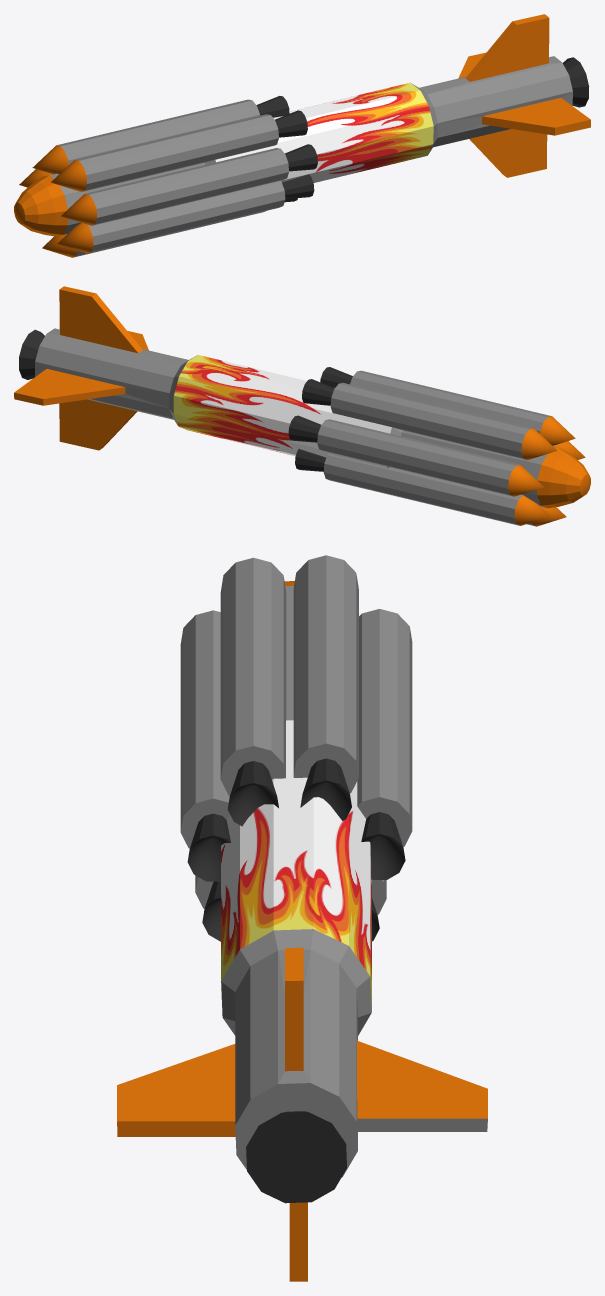
The model's file is ClusterMissile.fbx.
3 renders of one model, top to bottom at view 1: azimuth 30°, elevation 25°; view 2: azimuth 150°, elevation 25°; view 3: azimuth 270°, elevation 25°, orthographic. The views are drawn at different scales.
Visible parts, largest first — view 1: pCylinder10; view 2: pCylinder10; view 3: pCylinder10.
Boxes of the visible parts, x1,y1,x2,y2 form: pCylinder10: [14, 14, 590, 257]; pCylinder10: [14, 286, 590, 526]; pCylinder10: [117, 555, 487, 1281].
Bounding box in the file's own units: 9.35 × 2.43 × 2.7.
1 material, 1 textured.
